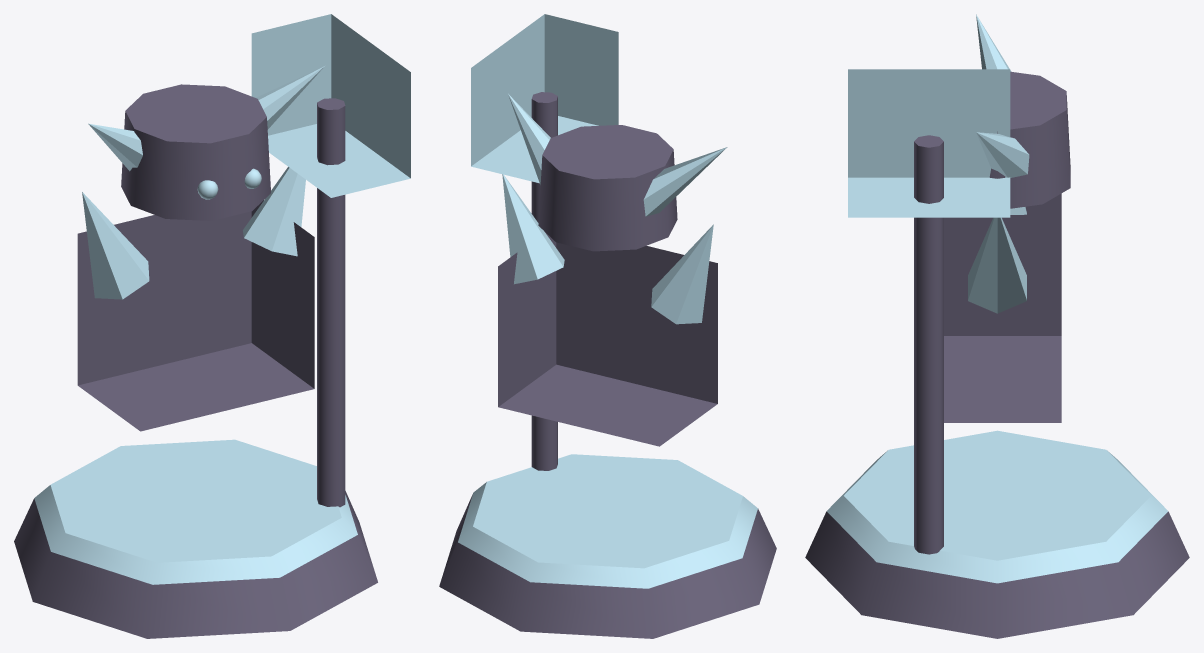
The model's file is knight.glb.
3 renders of one model, left to right at view 1: azimuth 30°, elevation 25°; view 2: azimuth 150°, elevation 25°; view 3: azimuth 270°, elevation 25°, orthographic. The views are drawn at different scales.
Visible parts, largest first — view 1: knight; view 2: knight; view 3: knight.
Boxes of the visible parts, <box> form: knight: <box>14,14,410,638</box>; knight: <box>439,14,776,638</box>; knight: <box>805,14,1189,638</box>.
Size of the model in its own units: 0.9 by 1.34 by 0.9.
